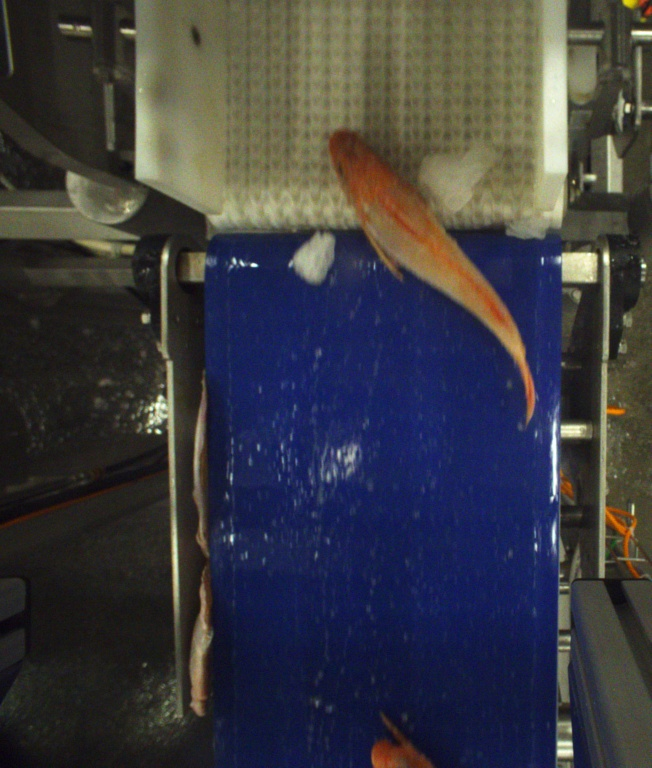GUU: (328, 125, 536, 425)
